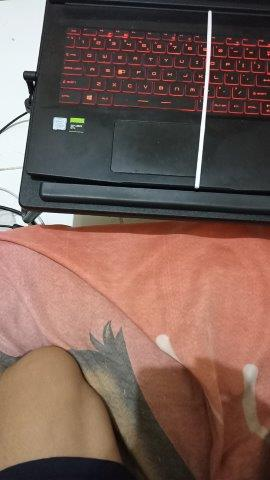sedotan: (196, 11, 212, 187)
